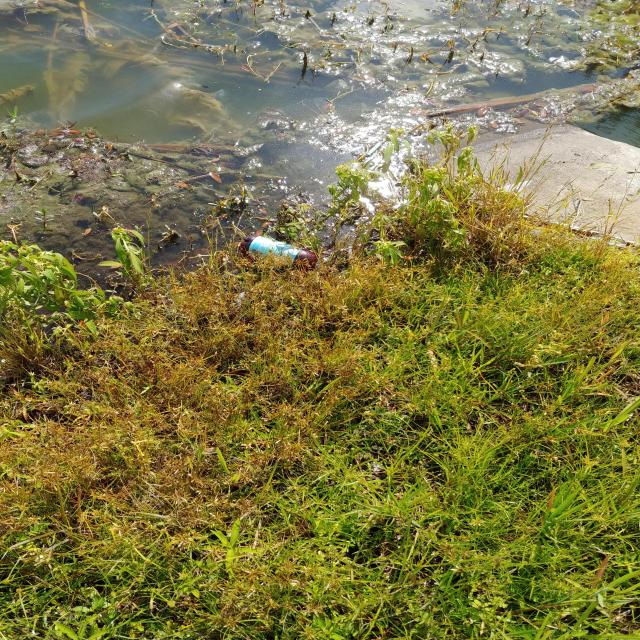litter: (240, 235, 325, 271), (363, 77, 375, 85)
